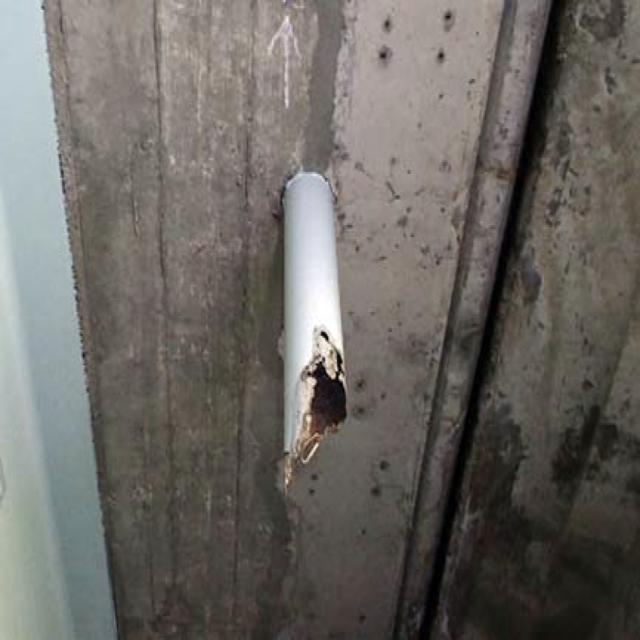corrosion: (263, 308, 373, 486)
